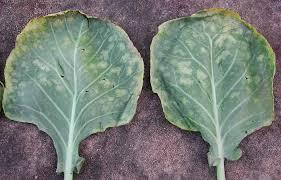Bok-Choy-Diseased: (1, 10, 144, 158), (148, 11, 277, 144)
